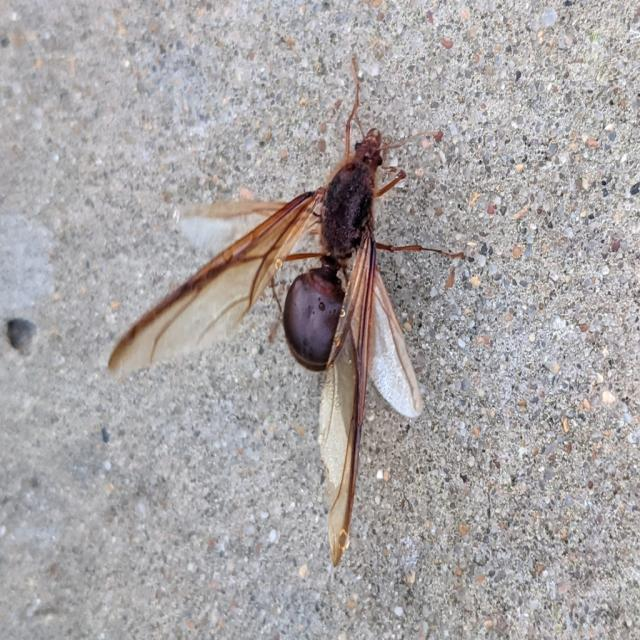Alive-Male-Alate: (108, 55, 466, 568)
